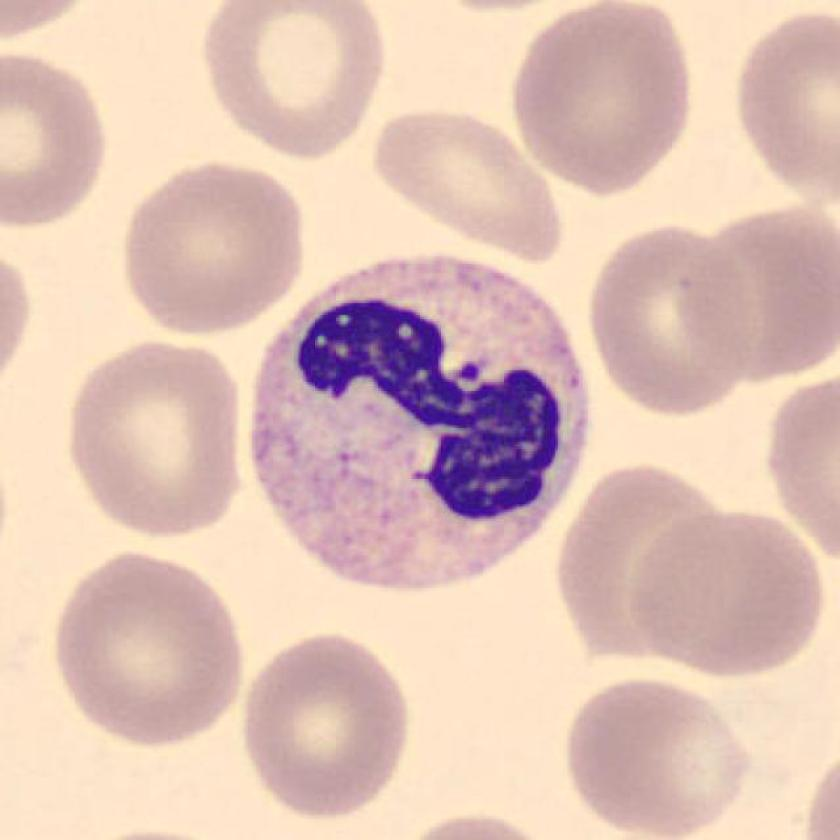neutrophil: (249, 258, 585, 589)
